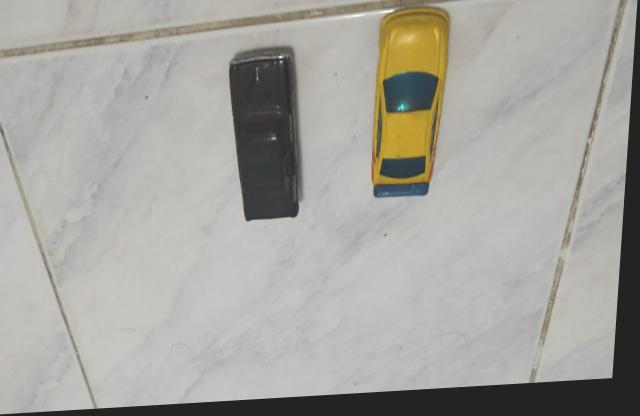01_FORD: (229, 48, 303, 226)
02_OZSOME: (374, 11, 452, 203)
